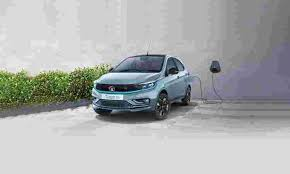Tiago: (89, 51, 195, 128)
